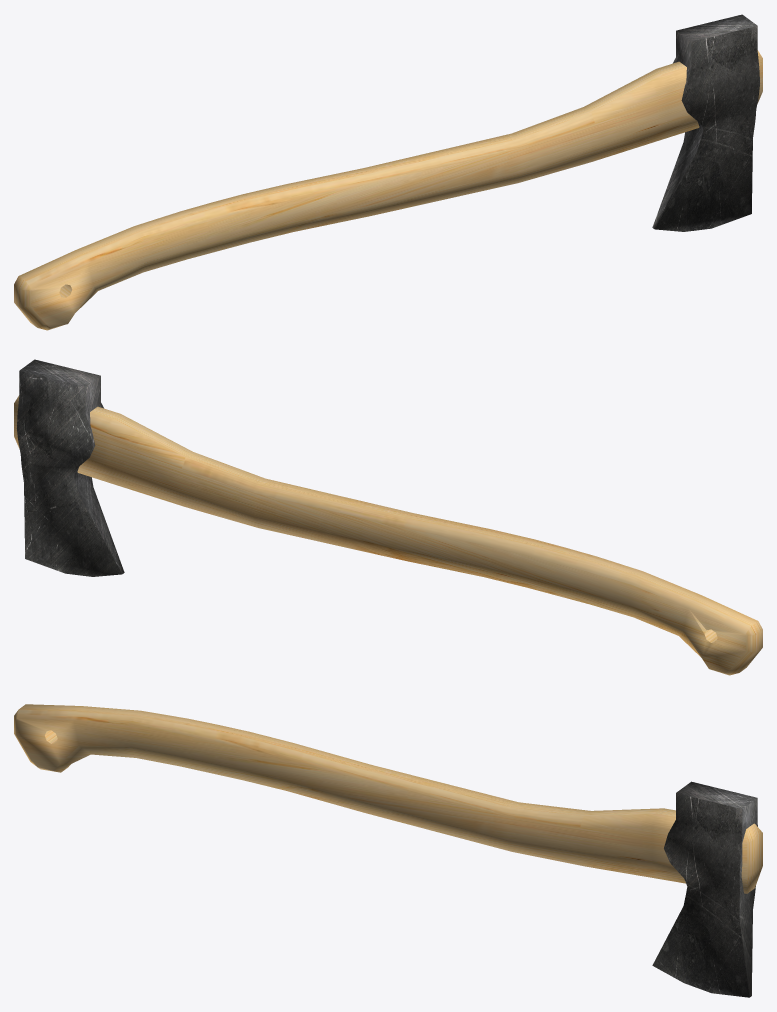
Rendered from axe.fbx.
3 renders of one model, top to bottom at view 1: azimuth 30°, elevation 25°; view 2: azimuth 150°, elevation 25°; view 3: azimuth 330°, elevation 25°, orthographic.
Visible parts, largest first — view 1: Axe Handle, Axe Blade; view 2: Axe Handle, Axe Blade; view 3: Axe Handle, Axe Blade.
Part boxes in pixels (x1=…): Axe Handle: x1=14, y1=50, x2=762, y2=330; Axe Blade: x1=652, y1=14, x2=759, y2=231; Axe Handle: x1=14, y1=395, x2=762, y2=675; Axe Blade: x1=17, y1=359, x2=124, y2=576; Axe Handle: x1=14, y1=704, x2=762, y2=893; Axe Blade: x1=652, y1=781, x2=757, y2=997.
Size of the model in its own units: 2.99 by 0.7725 by 0.142.
2 materials, 2 textured.
